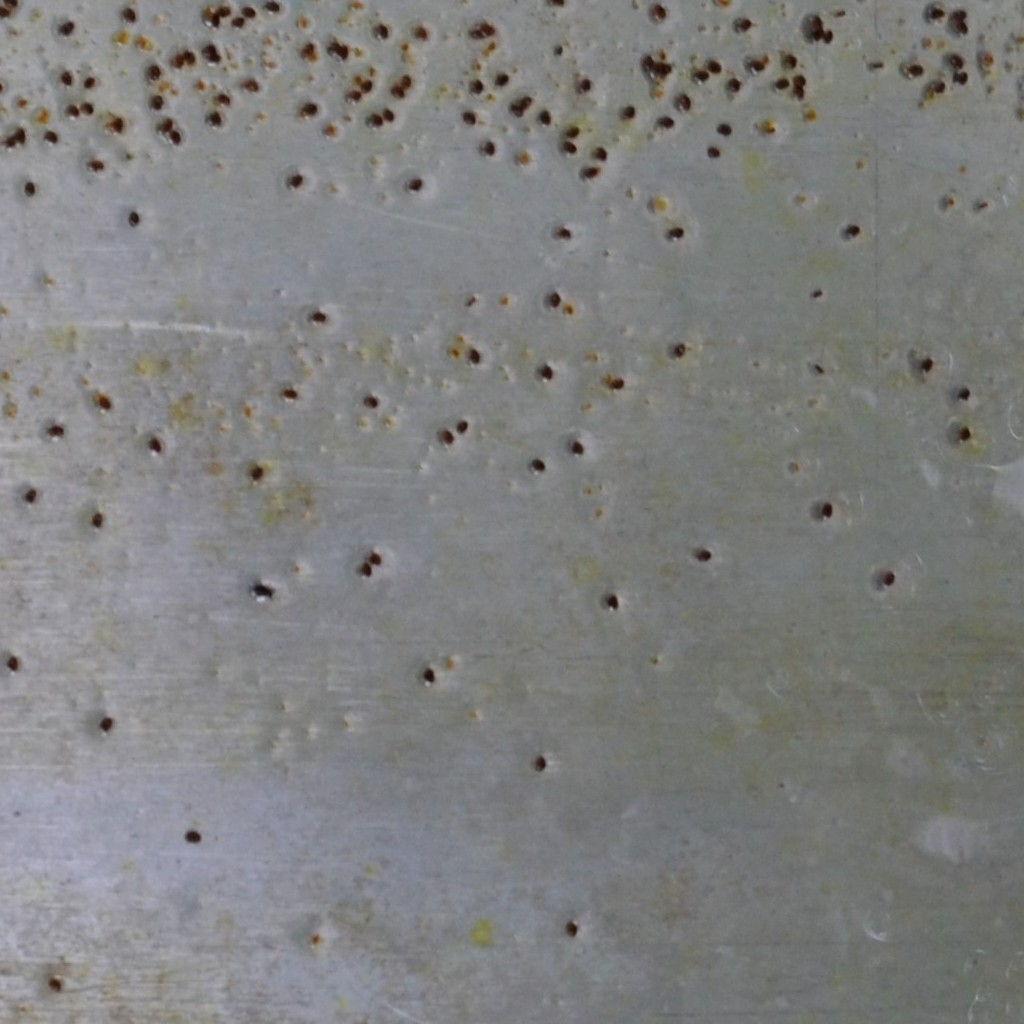varroa: (326, 38, 349, 63), (562, 915, 582, 941), (239, 75, 261, 97), (528, 454, 549, 477), (694, 543, 714, 567), (652, 57, 673, 79), (95, 714, 117, 735), (181, 827, 203, 848), (662, 225, 689, 242), (604, 590, 622, 615), (365, 108, 383, 132), (535, 104, 552, 129), (771, 75, 791, 96), (713, 120, 734, 140), (647, 3, 668, 23), (669, 338, 689, 359), (505, 101, 526, 121), (477, 138, 497, 159), (106, 115, 126, 136), (535, 361, 555, 382), (879, 567, 897, 590), (468, 75, 486, 98), (554, 222, 572, 245), (951, 67, 971, 87), (677, 91, 693, 116), (287, 170, 307, 190), (420, 664, 439, 685), (492, 68, 511, 89), (459, 107, 478, 128), (57, 18, 76, 39), (569, 436, 587, 458), (580, 165, 603, 182), (57, 68, 74, 91), (532, 752, 548, 776), (842, 222, 861, 242), (690, 64, 710, 83), (705, 142, 724, 162), (404, 175, 423, 195), (204, 108, 223, 128), (45, 975, 64, 995), (954, 386, 975, 404), (639, 52, 657, 73), (145, 62, 163, 83), (918, 354, 935, 376), (88, 508, 105, 530), (22, 486, 39, 508), (820, 498, 836, 521), (481, 17, 497, 40), (146, 435, 162, 458), (724, 76, 743, 95), (302, 100, 321, 119), (748, 55, 766, 75), (561, 122, 581, 140), (519, 89, 534, 113), (374, 21, 389, 45), (168, 49, 186, 69), (148, 93, 166, 113), (608, 374, 625, 395), (438, 427, 455, 448), (96, 393, 113, 414), (546, 288, 562, 310), (947, 52, 965, 71), (119, 6, 138, 24), (167, 127, 184, 147), (86, 157, 106, 174), (126, 207, 143, 227), (308, 308, 328, 325), (577, 74, 592, 96), (905, 61, 924, 78), (955, 424, 972, 443), (620, 102, 637, 121), (380, 105, 397, 124), (41, 128, 60, 145), (47, 422, 66, 439), (360, 394, 380, 410), (706, 58, 723, 76), (658, 115, 676, 132), (78, 99, 95, 117), (737, 15, 753, 34), (593, 144, 609, 163), (561, 137, 577, 156), (389, 81, 405, 100), (22, 180, 37, 200), (931, 78, 947, 96), (781, 52, 799, 68), (466, 25, 484, 41), (214, 89, 232, 105), (466, 347, 482, 365), (808, 12, 823, 31), (228, 14, 247, 29), (200, 40, 219, 55), (280, 385, 299, 400), (202, 51, 222, 65), (954, 18, 970, 35), (158, 117, 175, 133), (453, 419, 470, 435), (81, 74, 96, 92), (62, 103, 80, 118), (950, 7, 969, 21), (182, 48, 196, 67), (249, 464, 263, 483), (5, 652, 19, 671), (794, 83, 807, 103), (14, 125, 27, 145), (809, 28, 825, 44), (241, 4, 257, 20), (1, 133, 17, 149), (358, 78, 373, 95), (345, 84, 362, 99), (356, 563, 373, 578), (399, 72, 412, 91), (262, 1, 281, 14), (791, 72, 807, 87), (929, 6, 946, 20), (368, 549, 382, 566), (217, 3, 232, 18), (821, 28, 834, 45), (210, 11, 222, 29)
